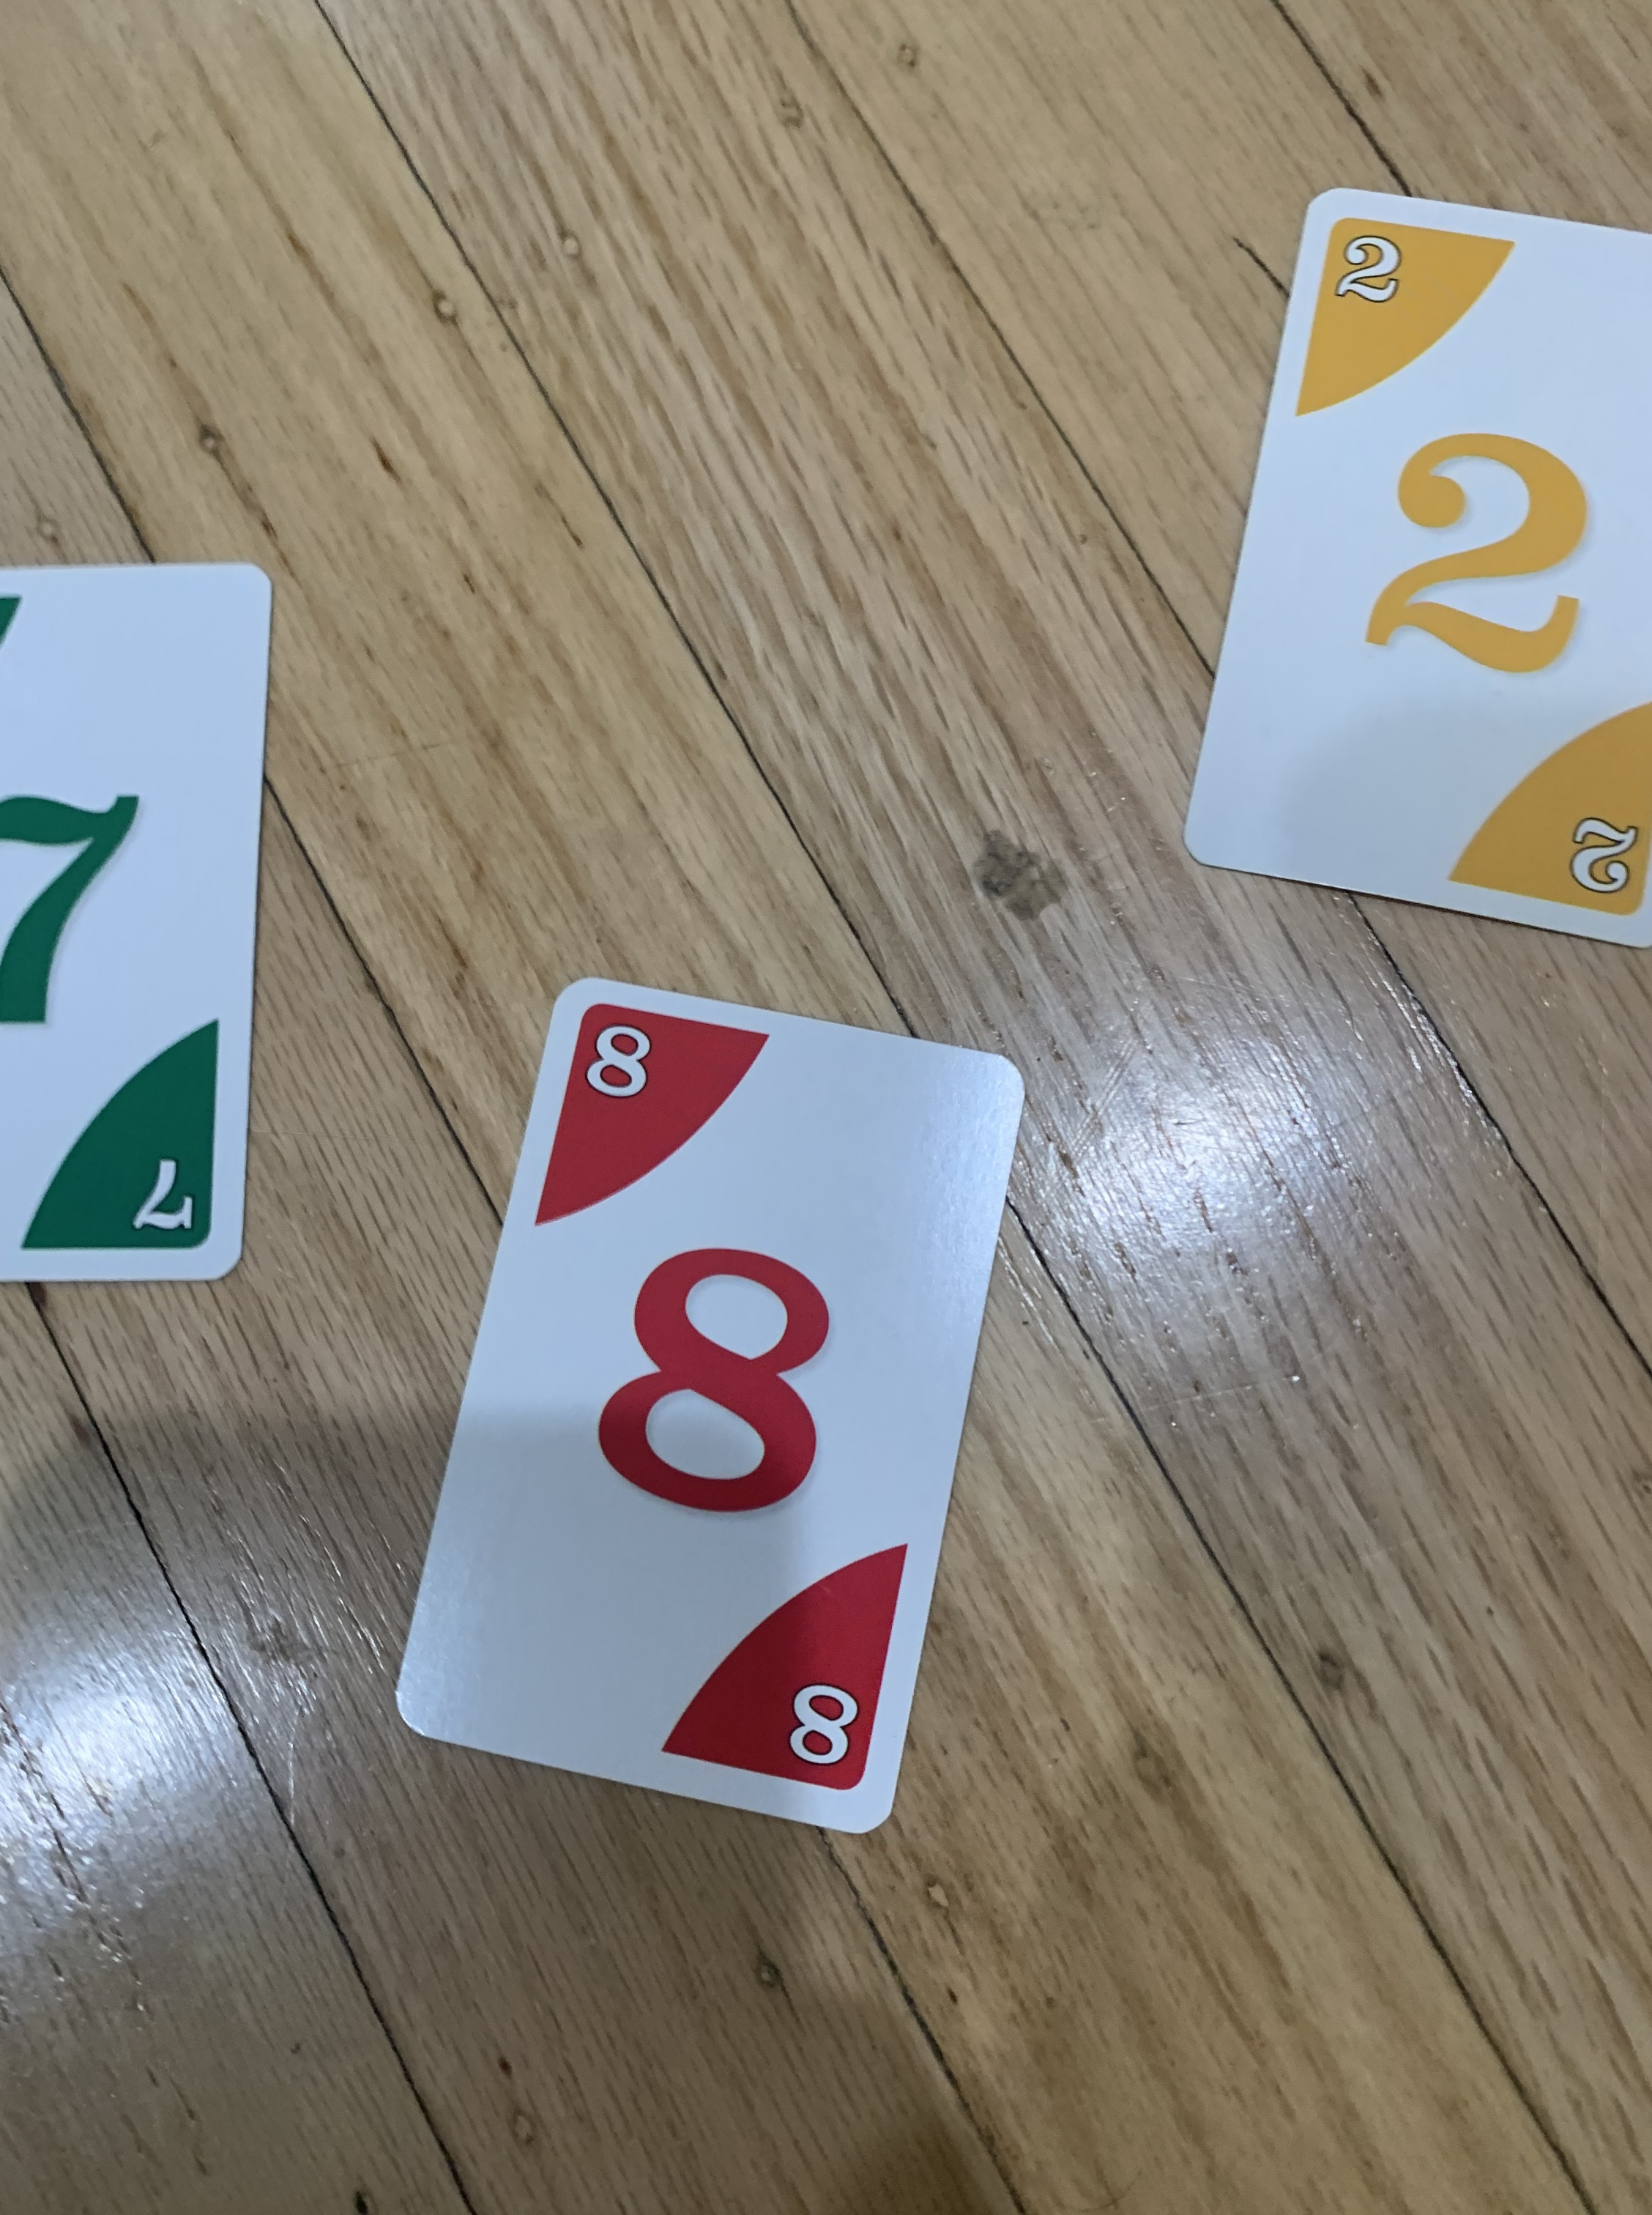eight: (387, 962, 1038, 1842)
two: (1175, 175, 1652, 963)
